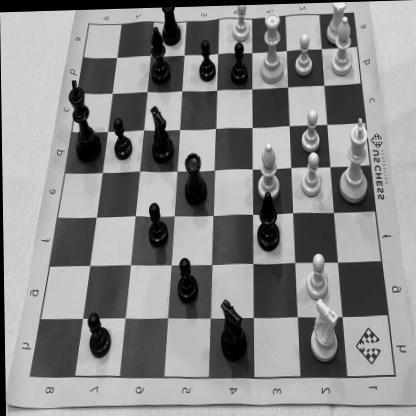black-bishop: (252, 188, 282, 254), (148, 19, 172, 87)
black-king: (66, 74, 102, 164)
black-knight: (213, 292, 250, 366), (148, 100, 175, 167)
black-pawn: (84, 304, 115, 362), (172, 250, 200, 306), (144, 198, 170, 250), (110, 111, 136, 161), (226, 38, 252, 87), (196, 36, 218, 84)
black-rook: (180, 146, 210, 208), (158, 5, 184, 50)
white-bishop: (254, 136, 284, 202), (329, 13, 355, 79)
white-king: (336, 113, 374, 207)
white-knight: (307, 293, 341, 365)
white-pawn: (302, 249, 332, 303), (298, 150, 325, 200), (300, 105, 324, 154), (292, 31, 315, 80), (230, 3, 254, 44)
white-queen: (258, 7, 286, 87)
white-rook: (322, 2, 350, 46)
